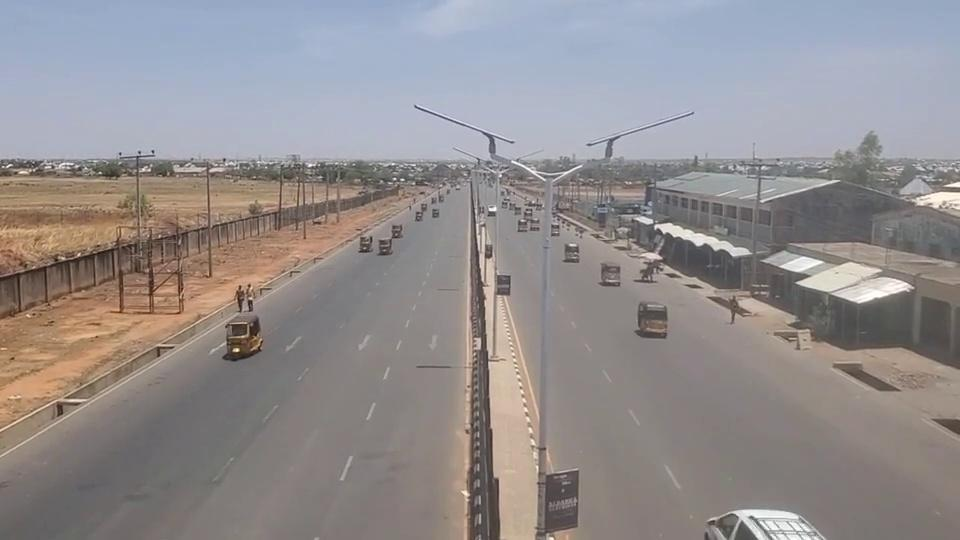car: (703, 508, 831, 538)
keke: (223, 312, 266, 362), (638, 298, 671, 338), (600, 262, 623, 287), (564, 242, 582, 262), (377, 237, 393, 256), (358, 233, 374, 252), (391, 224, 403, 238), (551, 222, 560, 236), (415, 210, 423, 221), (432, 207, 440, 218)
